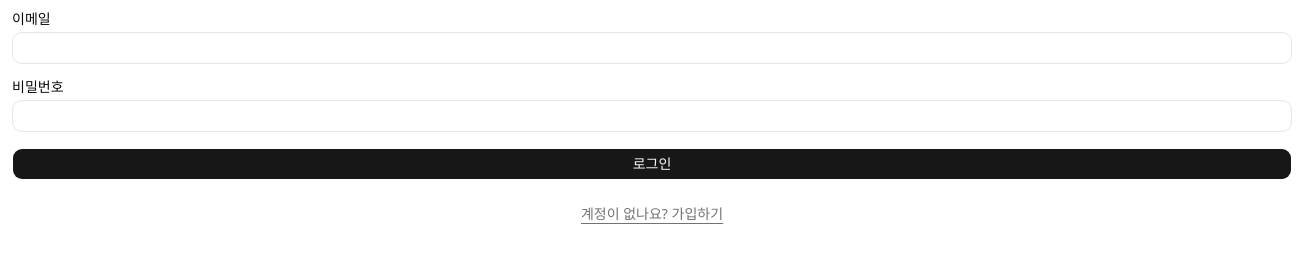
Test: AuthForm login mode › shows the wrong-credentials message and does not navigate
The width and height of the screenshot is (1304, 277).
Type "a@test.local" into the field labelled "이메일" at (652, 48), box [12,32,1292,64]
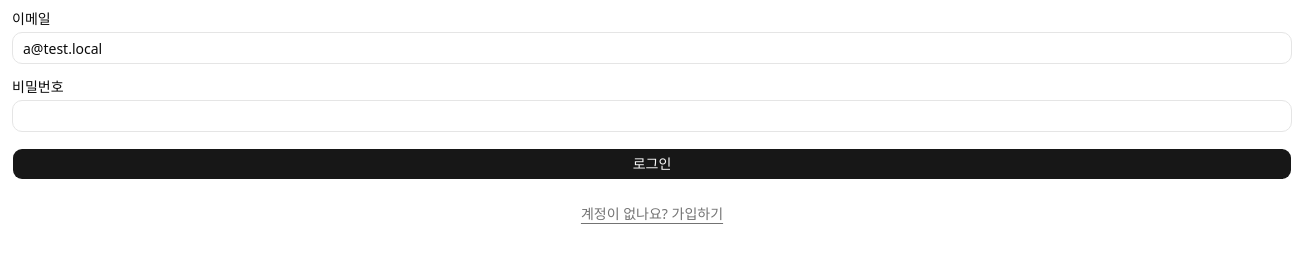
Type "password123" into the password field labelled "비밀번호" at (652, 116), box [12,100,1292,132]
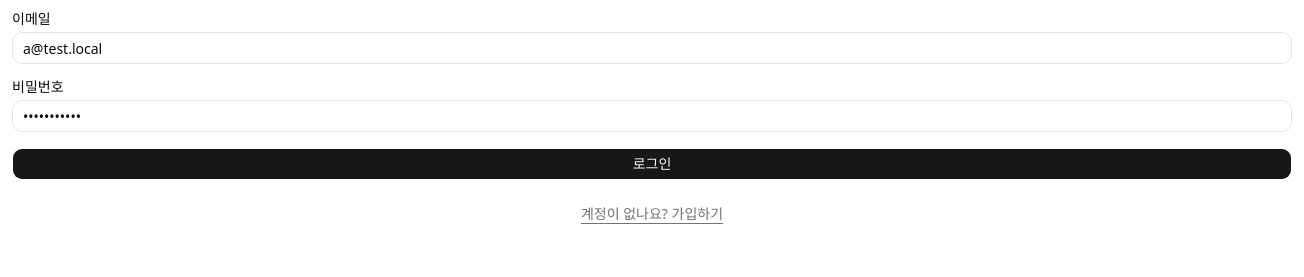
Click the button "로그인" at (652, 164), box [12,148,1292,180]
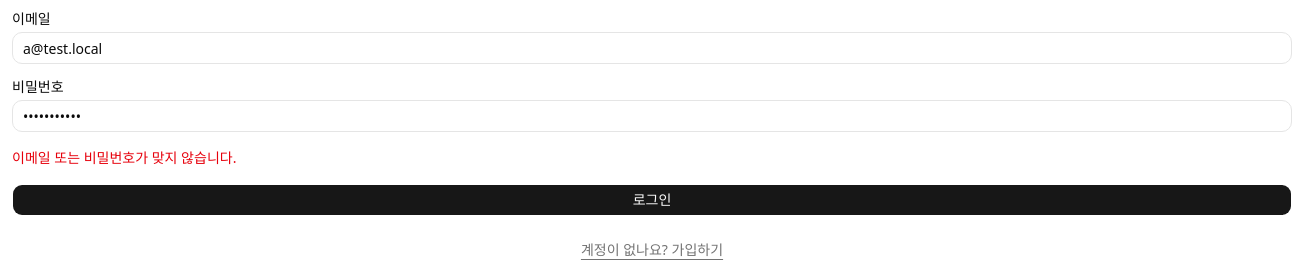
Expected: the text "이메일 또는 비밀번호가 맞지 않습니다." is shown, [12,148,236,167]
